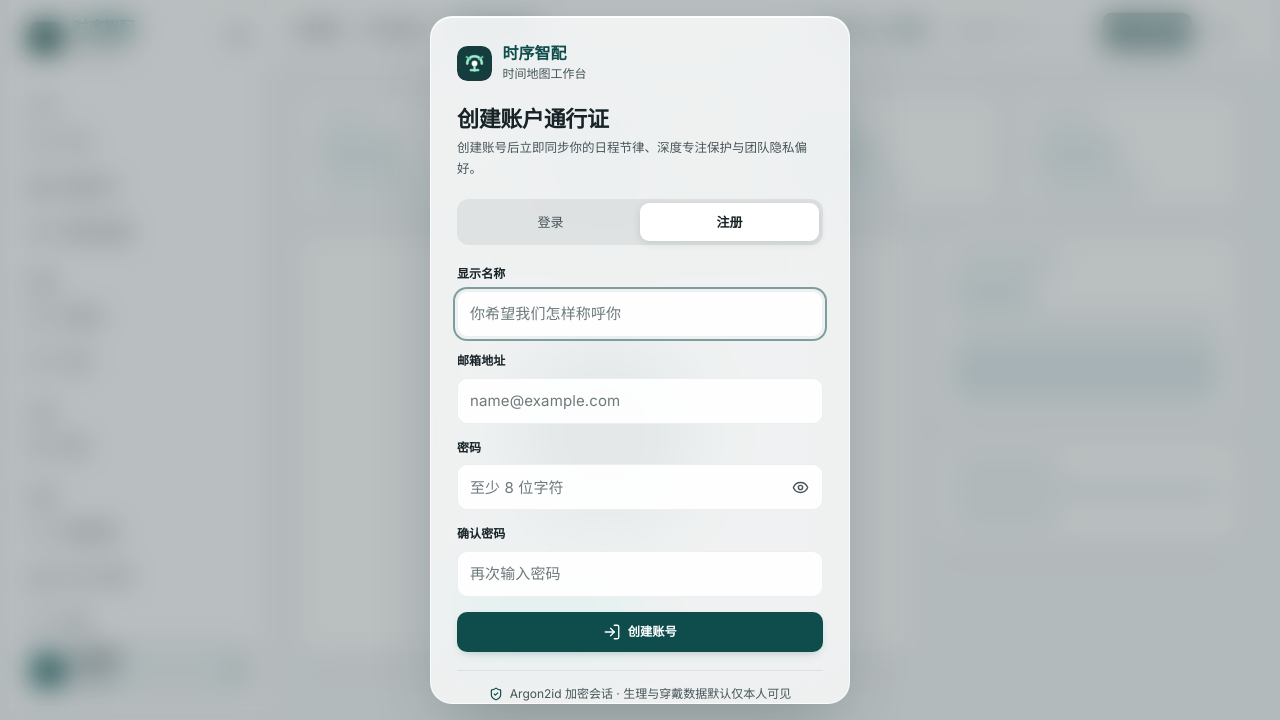
Scenario: validates the restored confirmation password before submitting registration
The image size is (1280, 720).
Type "验收账户" into the field labelled "显示名称" at [640, 314], box left=457, top=291, right=823, bottom=337
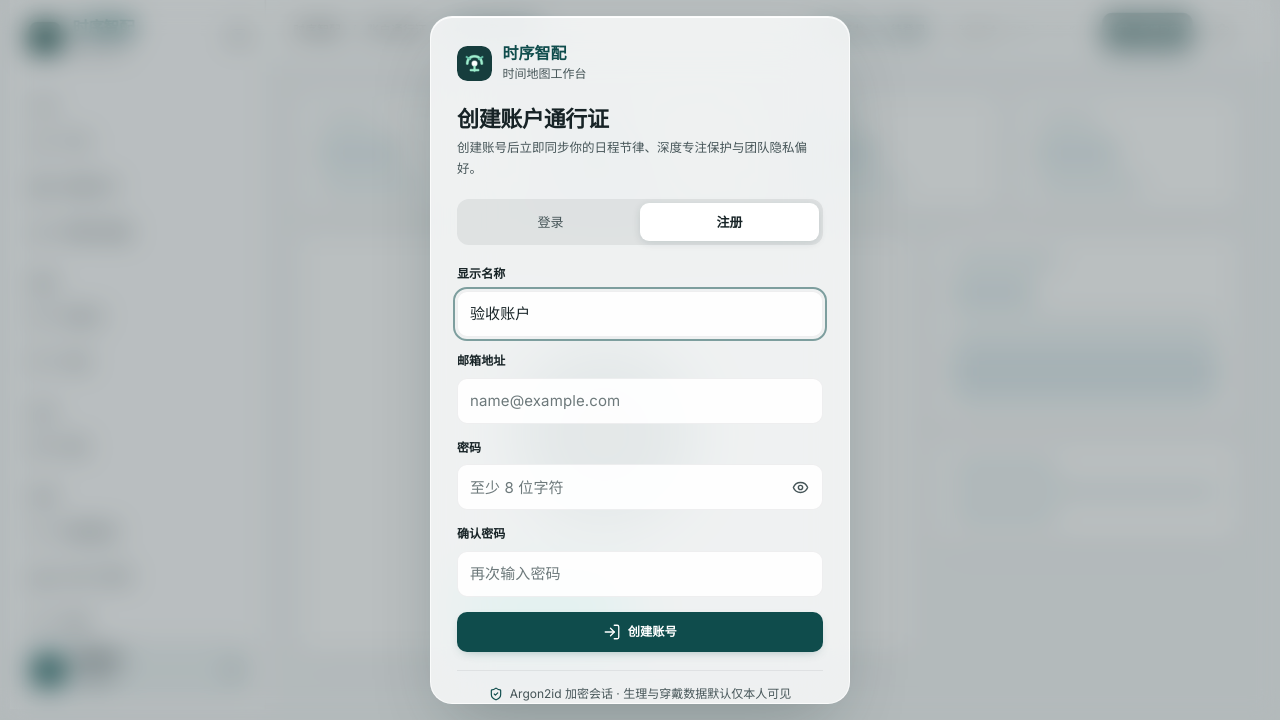
Type "confirm@example.com" into the field labelled "邮箱地址" at [640, 401], box left=457, top=378, right=823, bottom=424
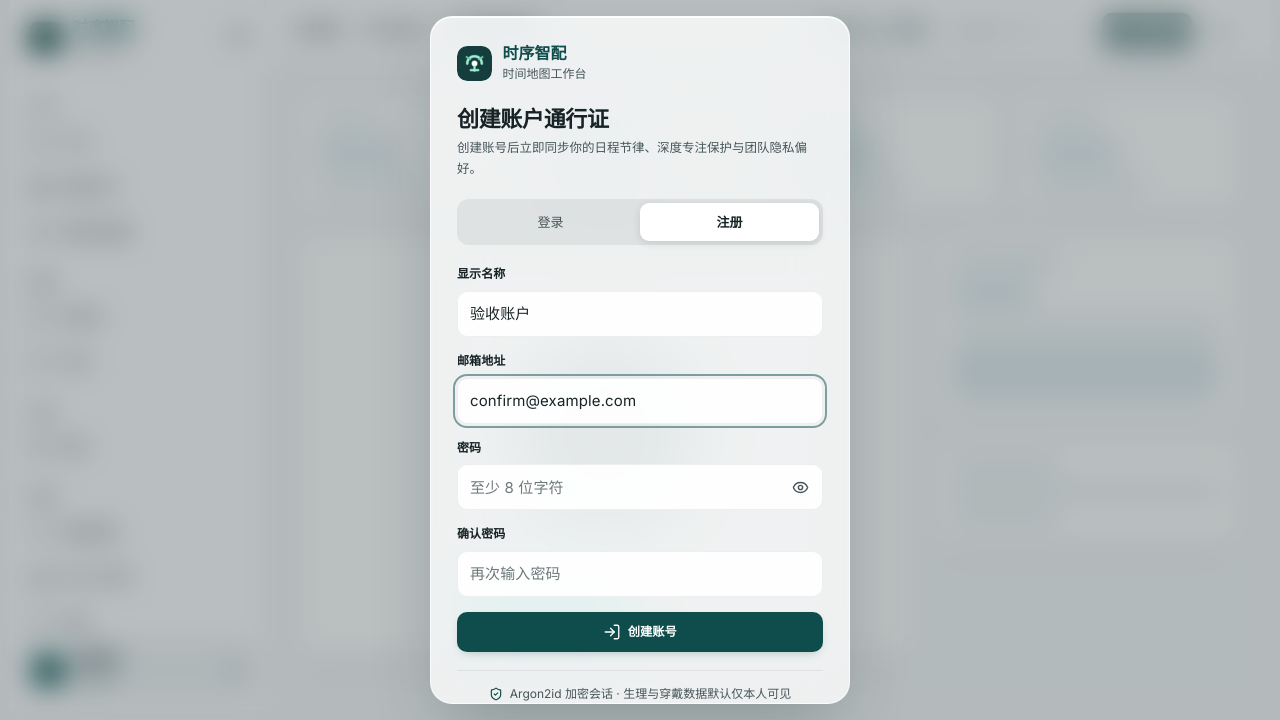
Type "Example-Password-1" into the password field labelled "密码" at [640, 487], box left=457, top=464, right=823, bottom=510
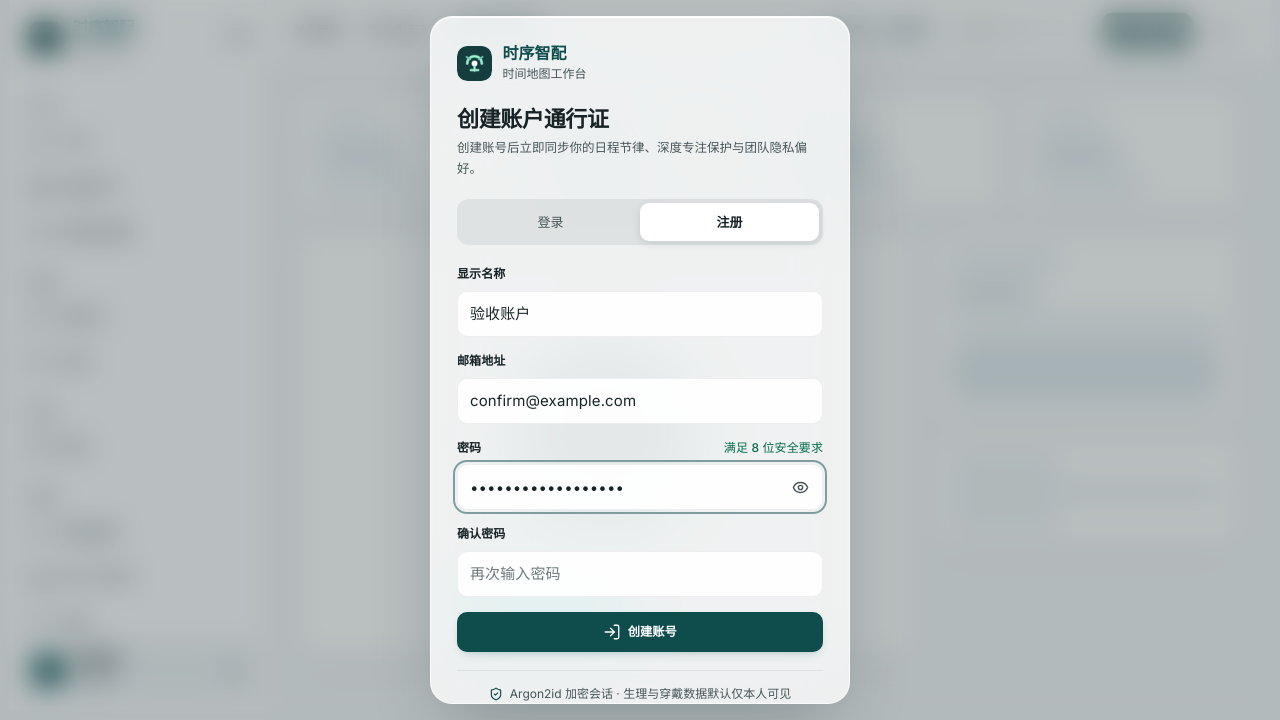
Type "Example-Password-2" into the password field labelled "确认密码" at [640, 574], box left=457, top=551, right=823, bottom=597
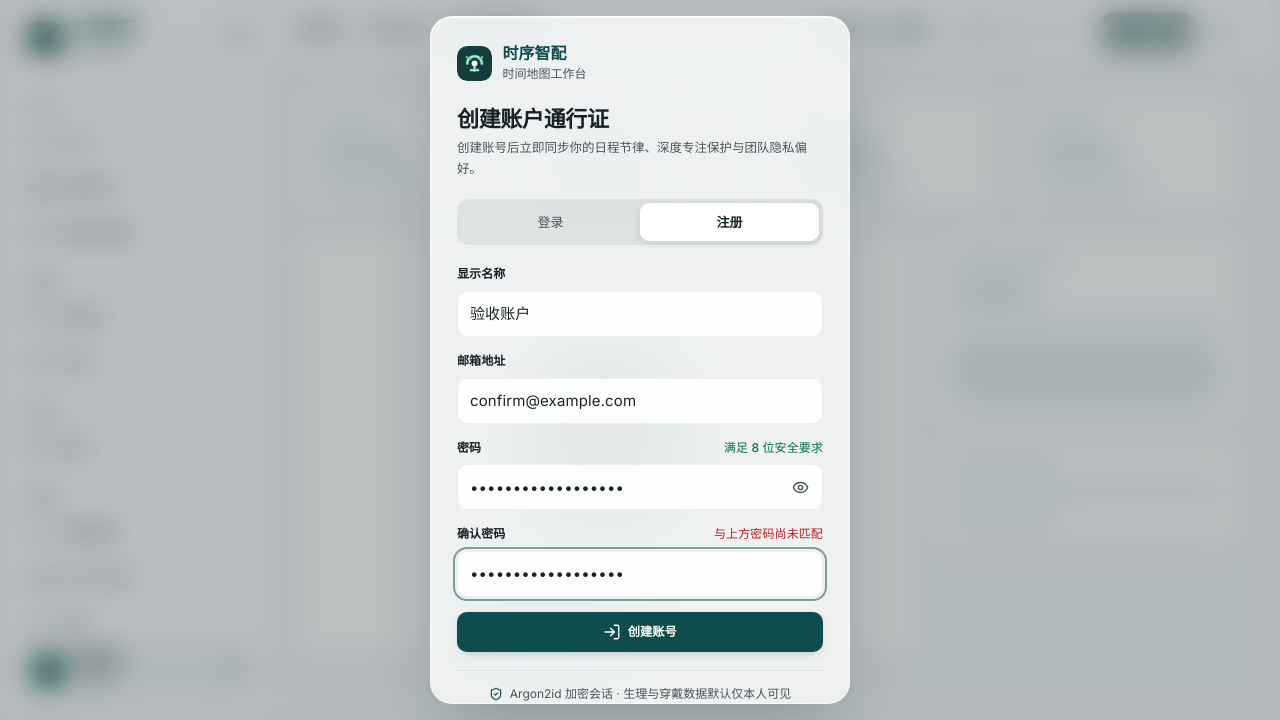
Click the button with aria-label "创建账号并开始使用" at [640, 632], box left=457, top=612, right=823, bottom=652
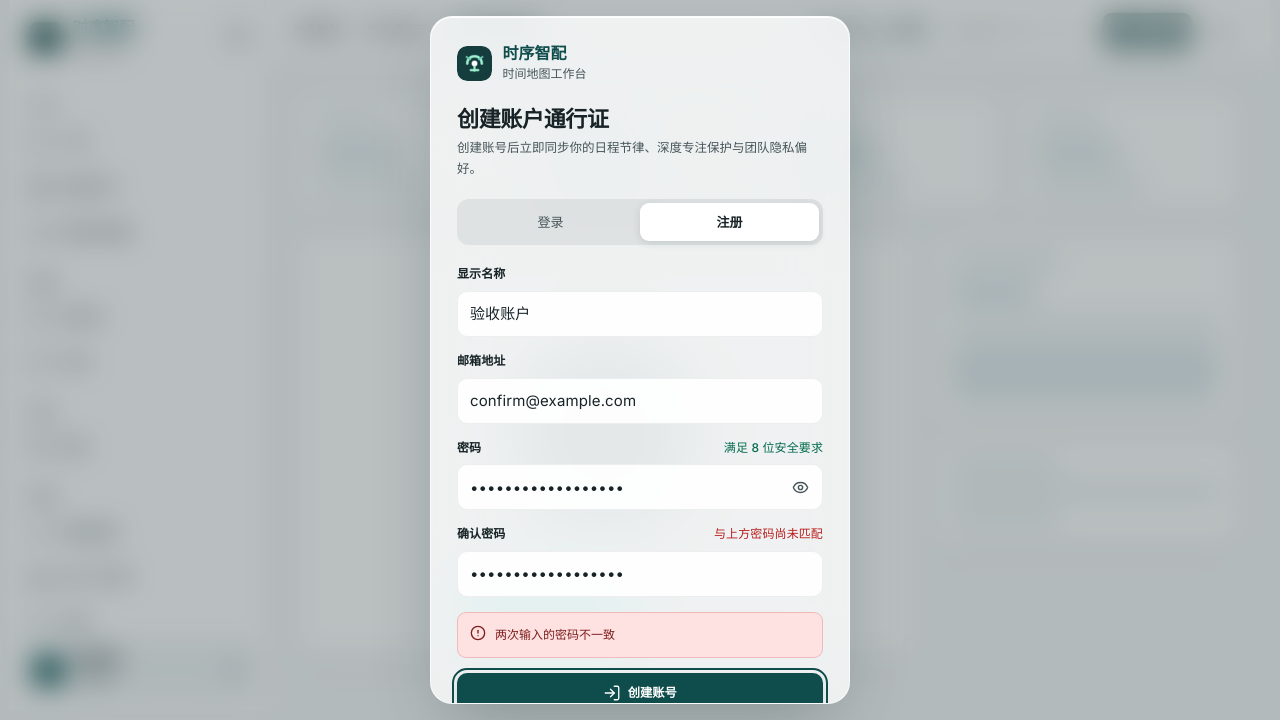
Check: the text "两次输入的密码不一致" is shown, box left=457, top=612, right=823, bottom=658
